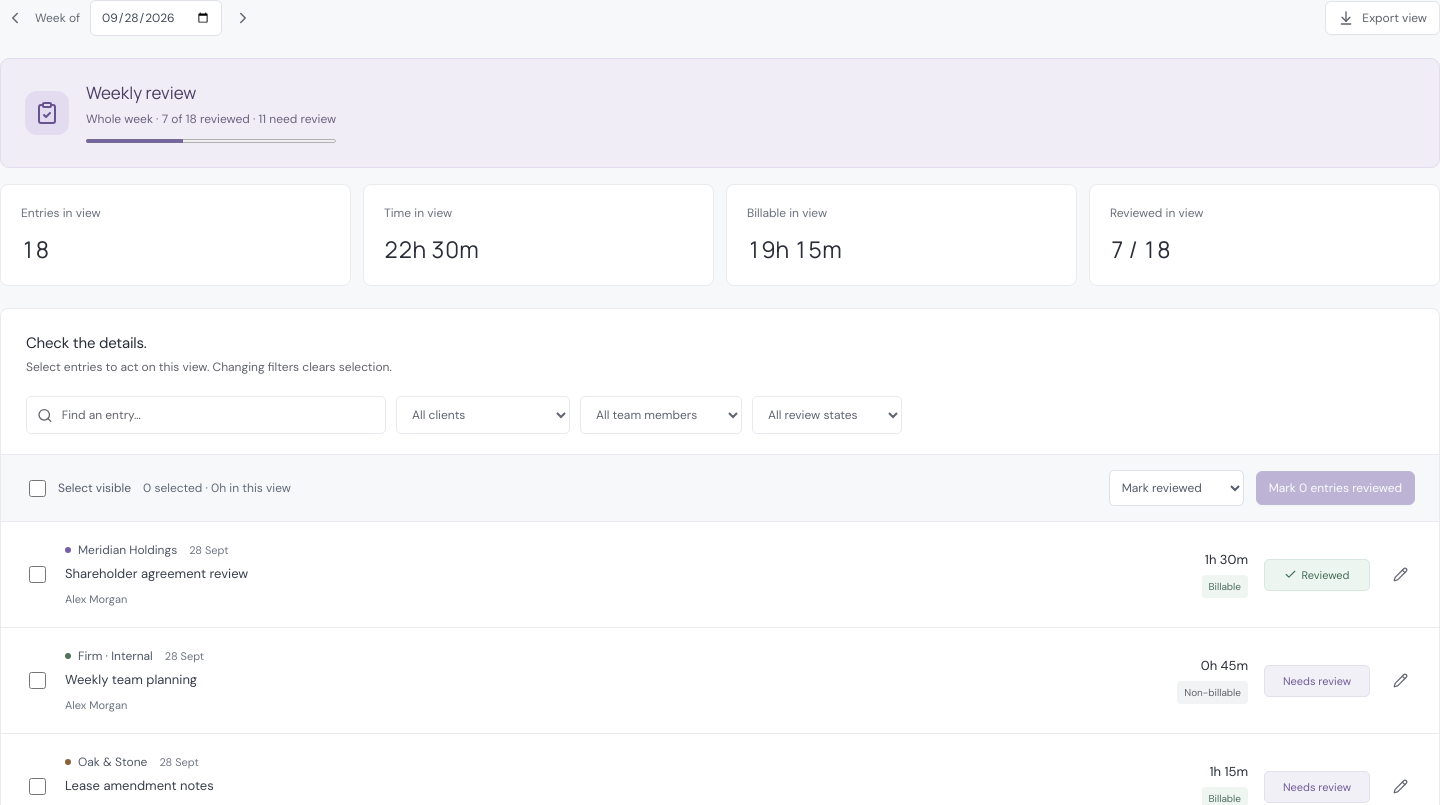
Test: weekly review view and action scope › uses filtered rows for totals and export regardless of selection
The width and height of the screenshot is (1440, 805).
Select "Meridian Holdings" in the dropdown named "Review client" at (483,415), box [396,396,570,434]
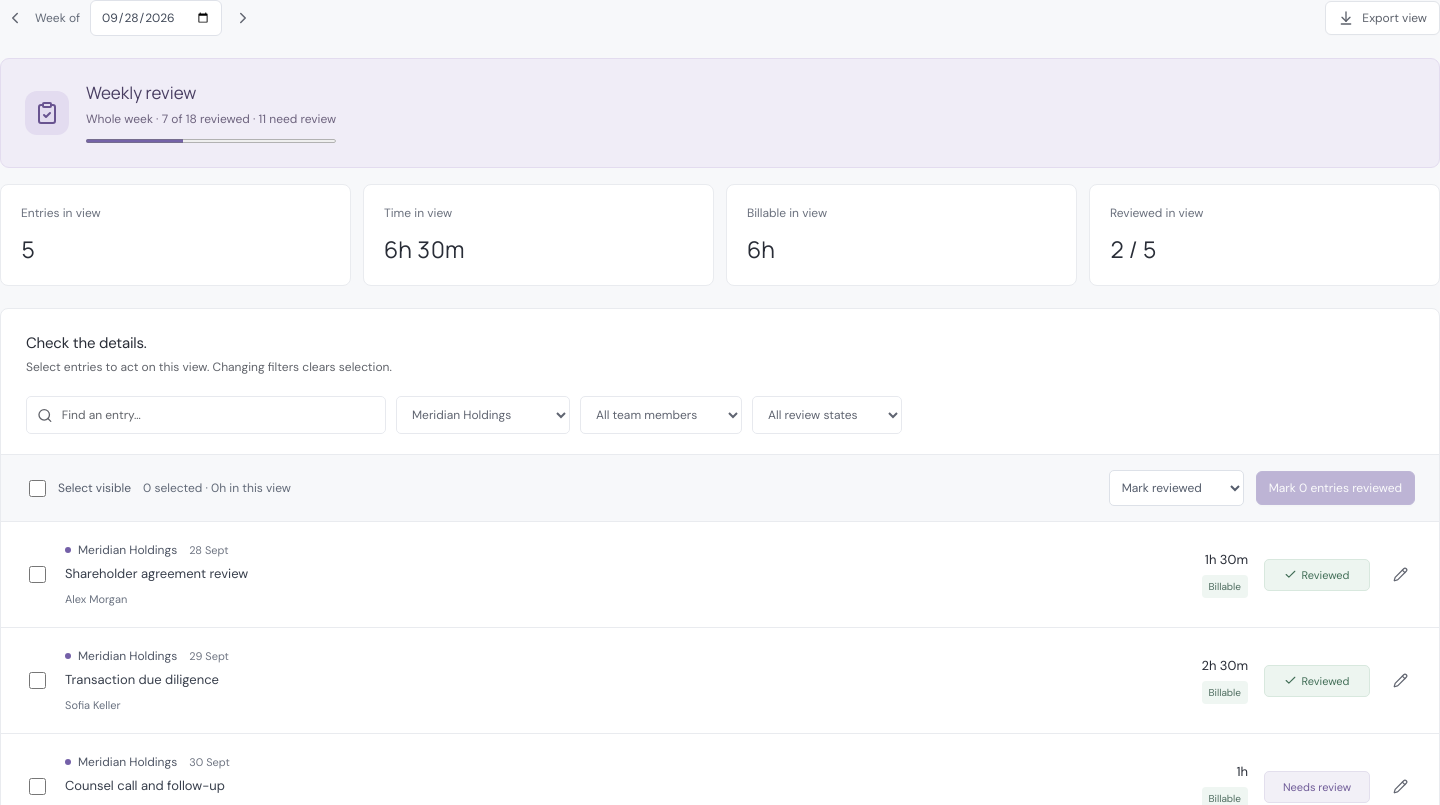
Select "Sofia Keller" in the dropdown named "Review employee" at (661,415), box [580,396,742,434]
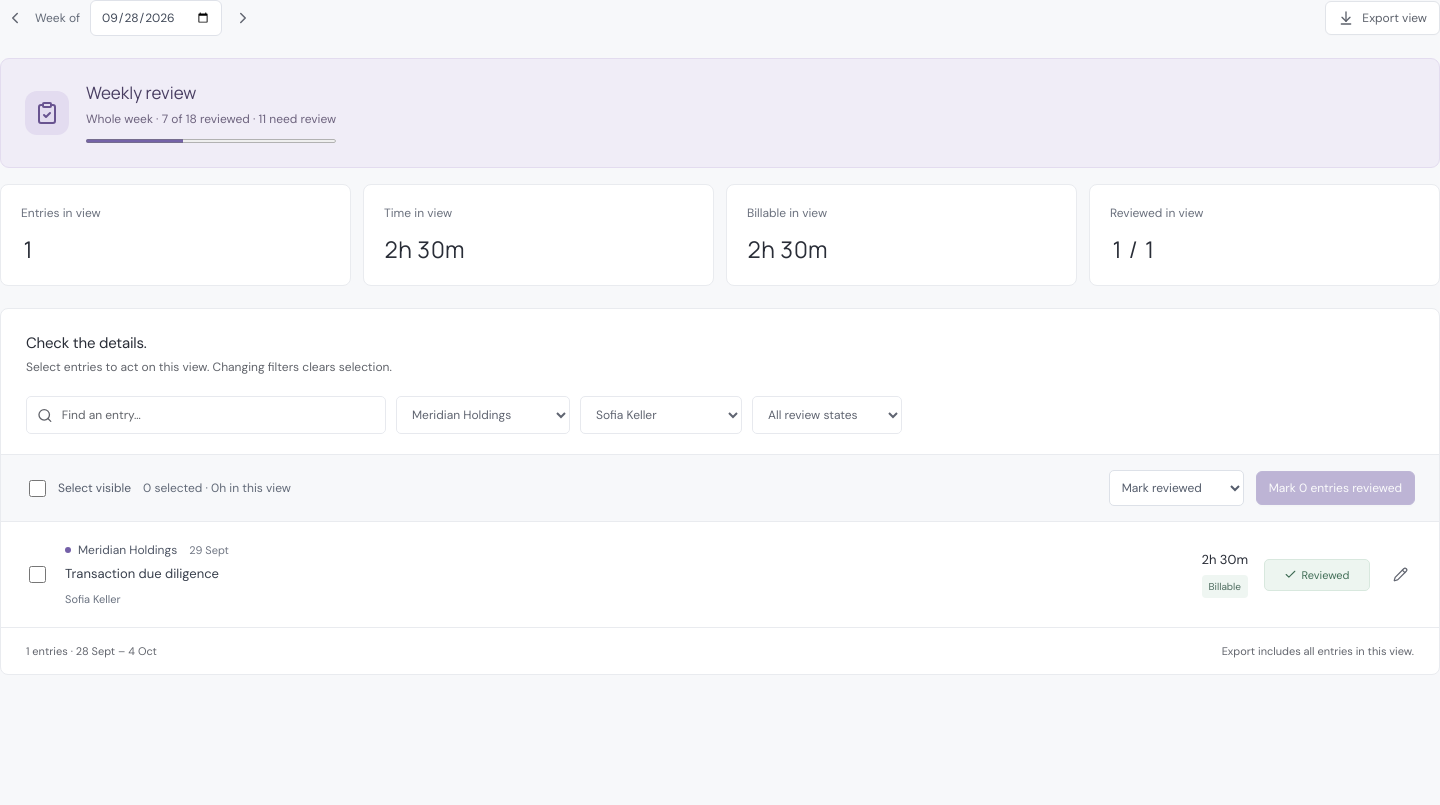
Select "Reviewed" in the dropdown named "Review status" at (827,415), box [752,396,902,434]
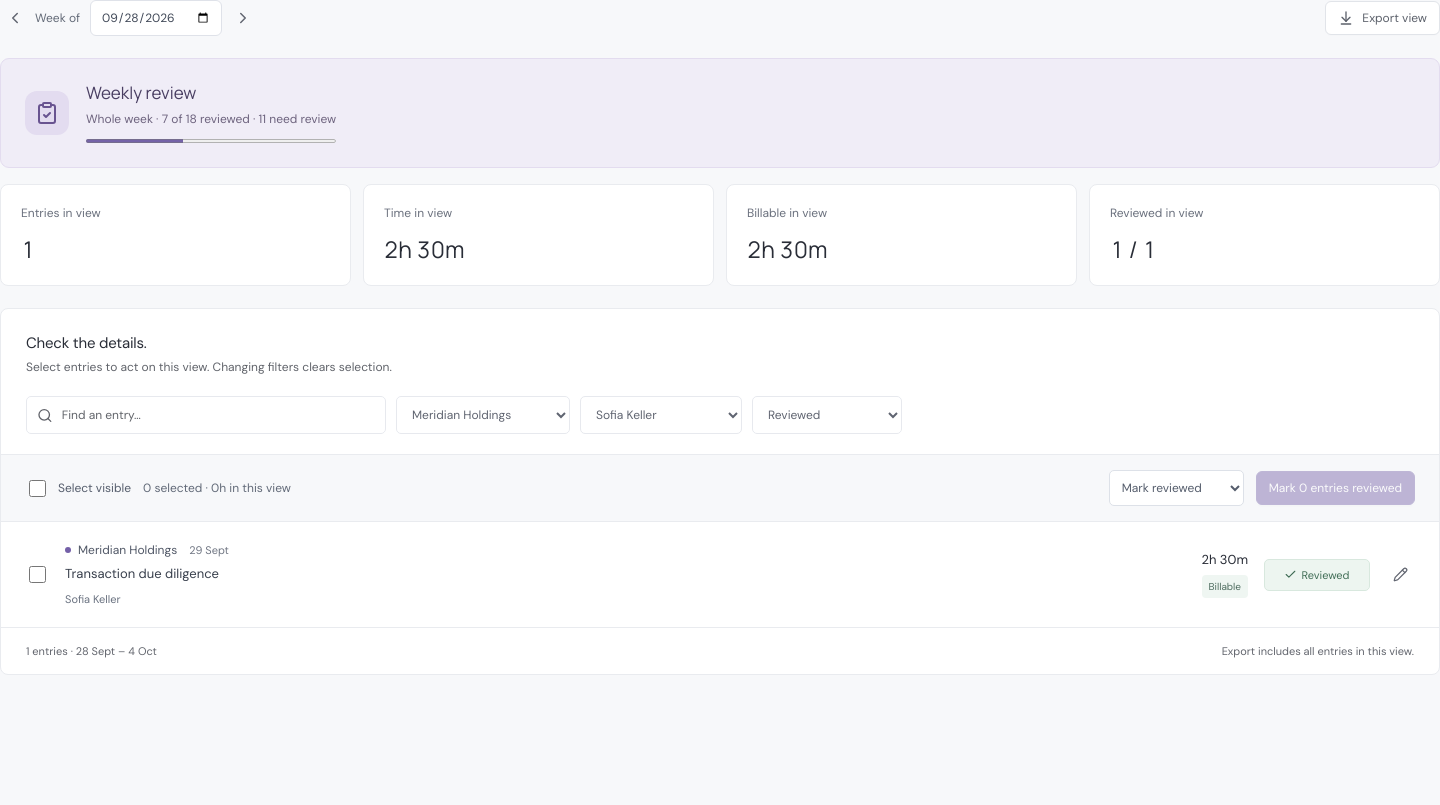
Result: the number of elements with class "review-row" is 1 at [1,522,1439,627]
Click the checkbox named "Select visible entries" at (38,488), box [29,480,46,496]
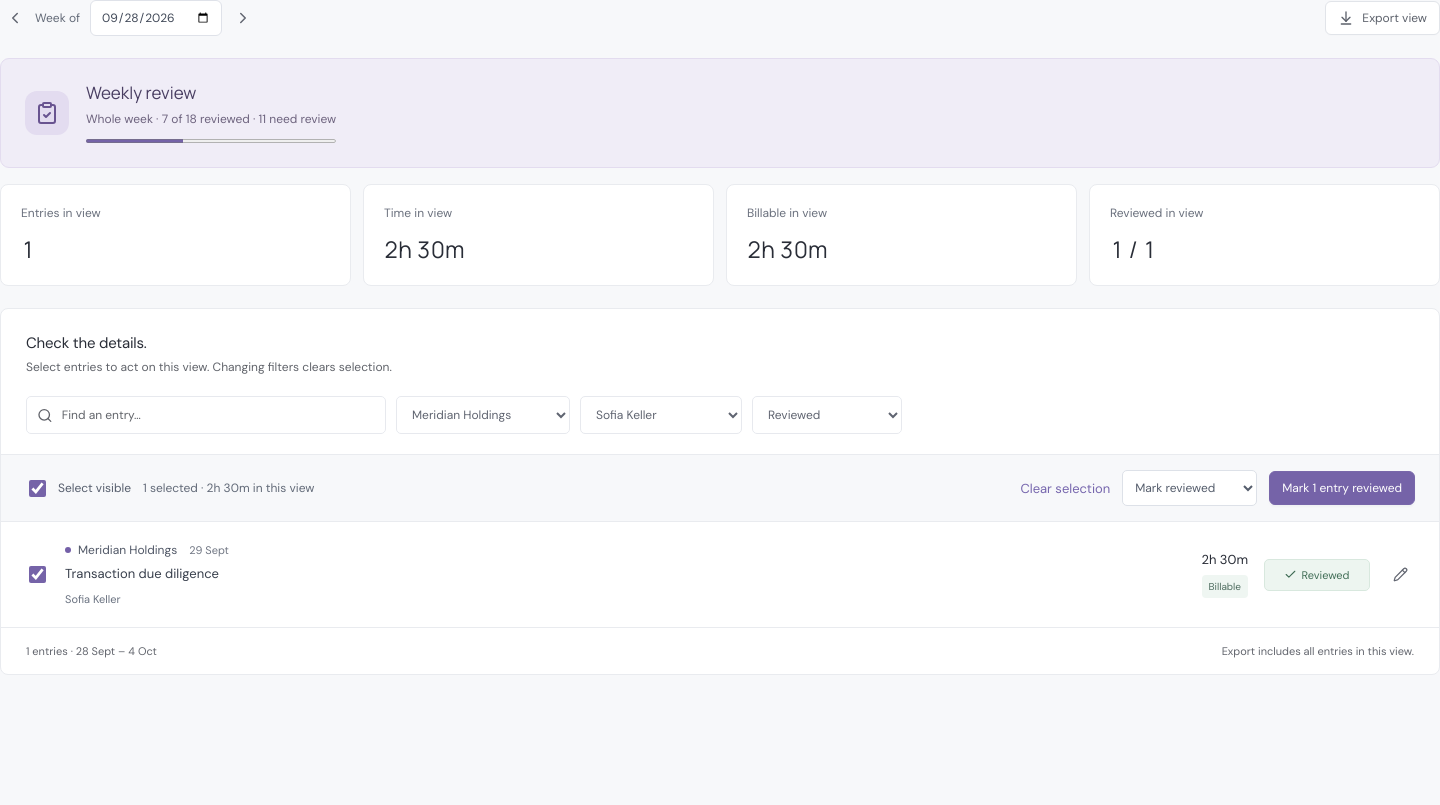
Click the button "Export view" at (1383,18), box [1325,1,1439,35]
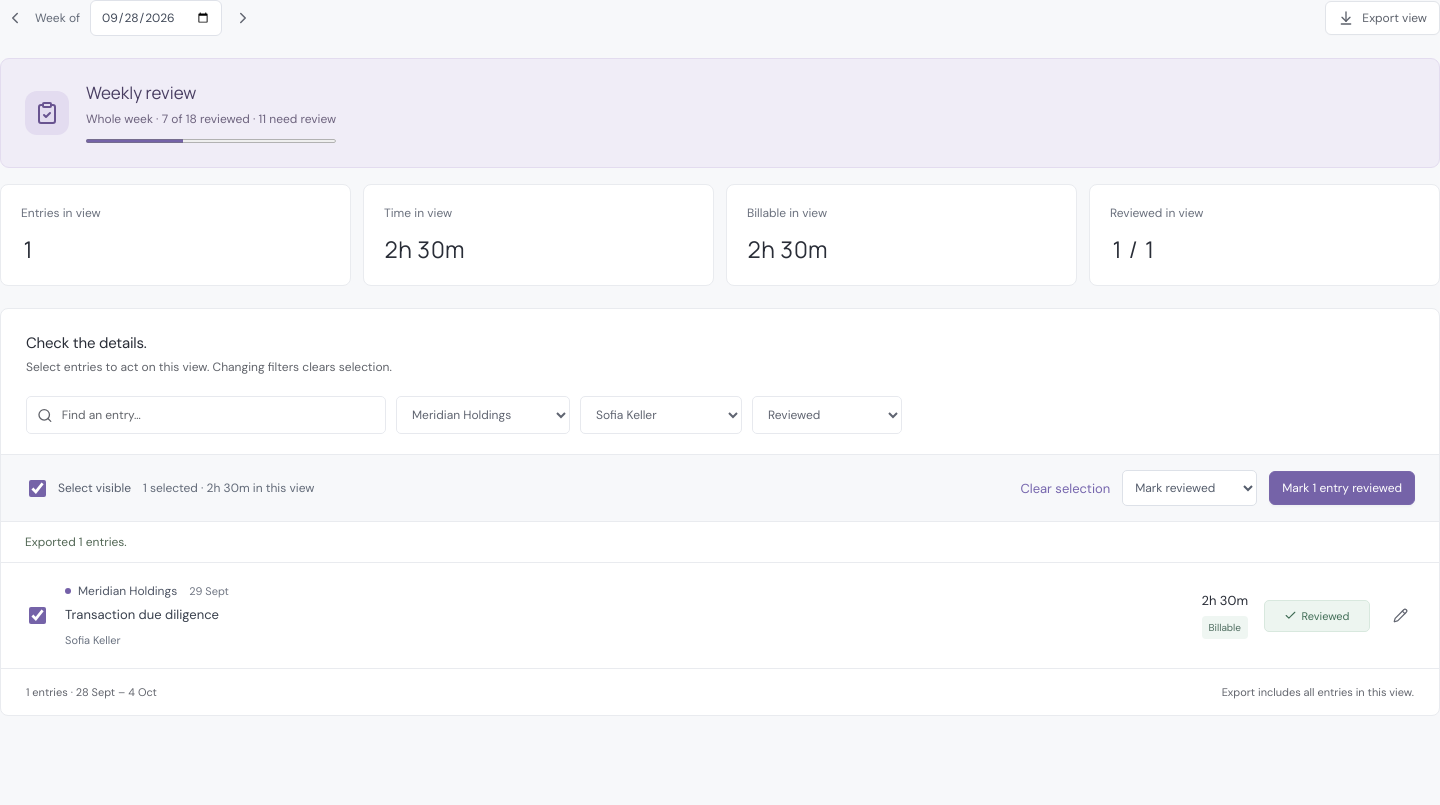
Type "missing-entry" into the field named "Search review" at (218,415), box [62,397,375,433]
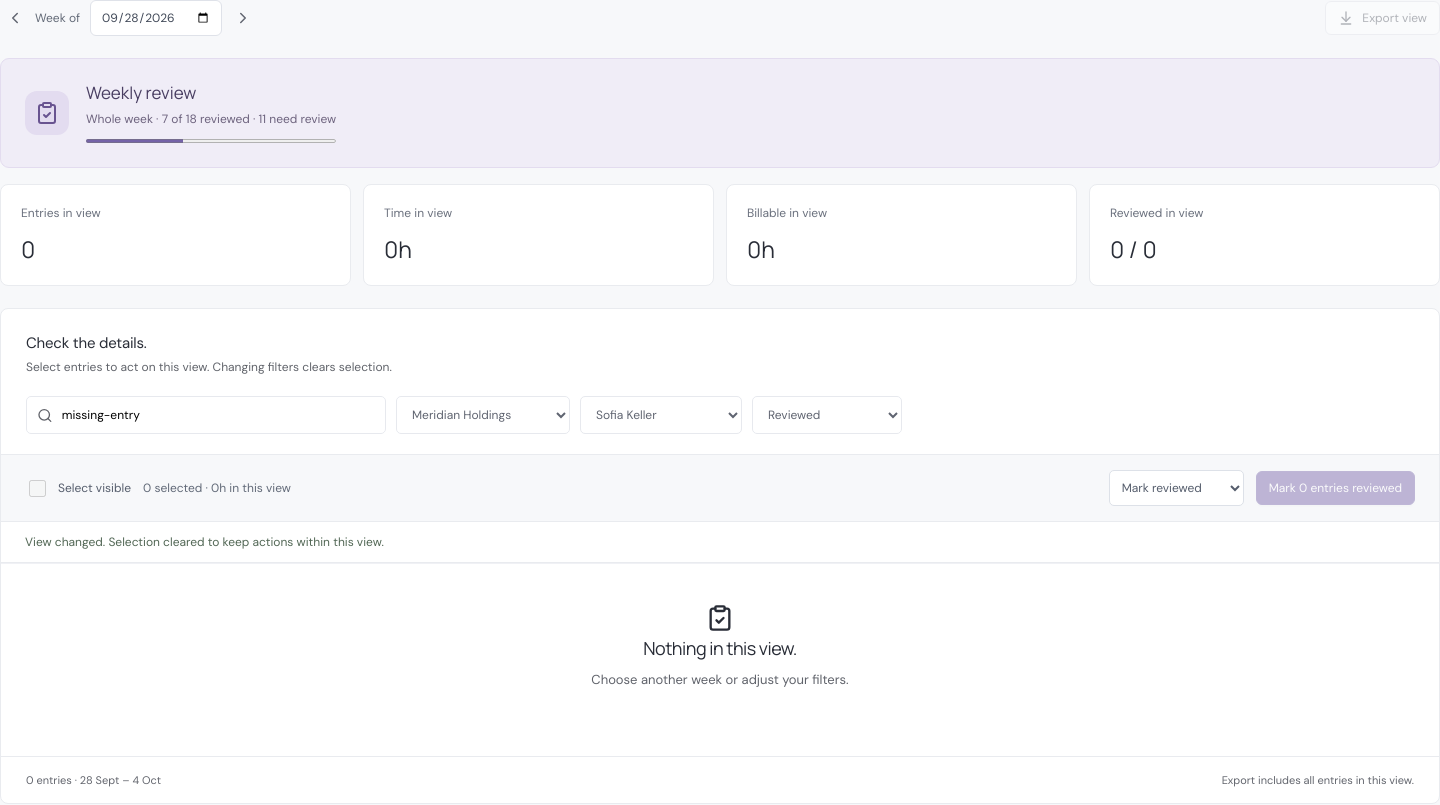
Result: the text with test id "review-total" reads "0h" at [384,233,412,265]
Result: the button "Export view" is disabled at [1325,1,1439,35]
